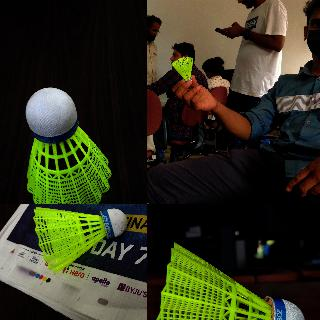shuttlecock: (150, 240, 305, 319), (25, 87, 112, 203), (33, 206, 127, 274), (171, 56, 193, 82)
